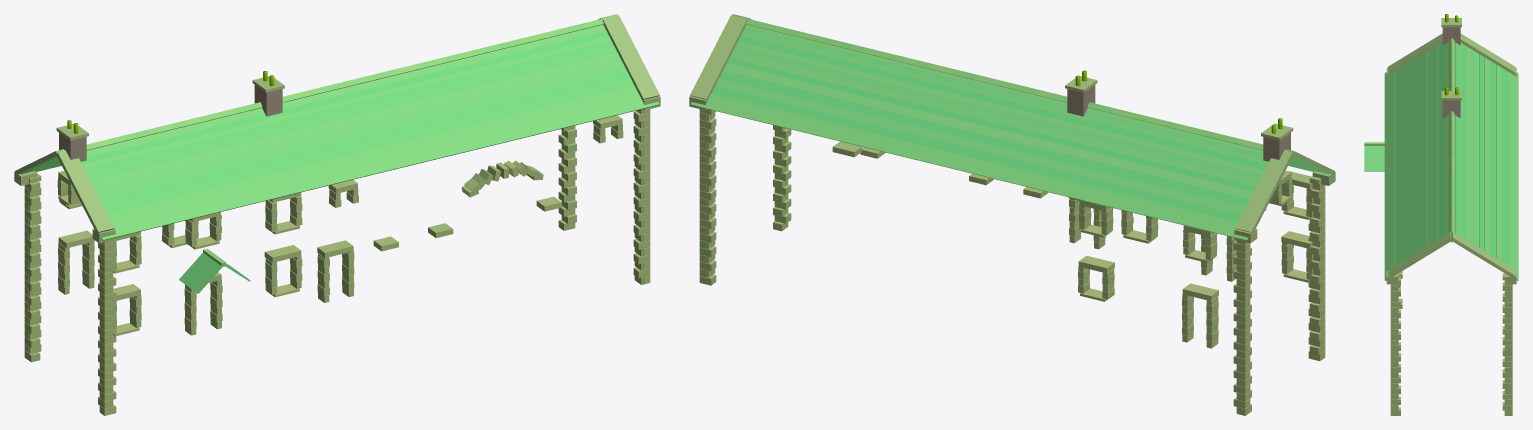
Rendered from SM_Bld_226_Stone.glb.
The picture shows the model from 3 angles, left to right: view 1: azimuth 30°, elevation 25°; view 2: azimuth 150°, elevation 25°; view 3: azimuth 270°, elevation 25°; orthographic projection. The views are drawn at different scales.
Parts seen in each view (by area): view 1: SM_Bld_226_Stone; view 2: SM_Bld_226_Stone; view 3: SM_Bld_226_Stone.
Boxes of the visible parts, <box> form: SM_Bld_226_Stone: <box>14,14,660,415</box>; SM_Bld_226_Stone: <box>689,14,1335,415</box>; SM_Bld_226_Stone: <box>1364,14,1518,415</box>.
Bounding box in the file's own units: 24.8 × 11.1 × 7.73.
